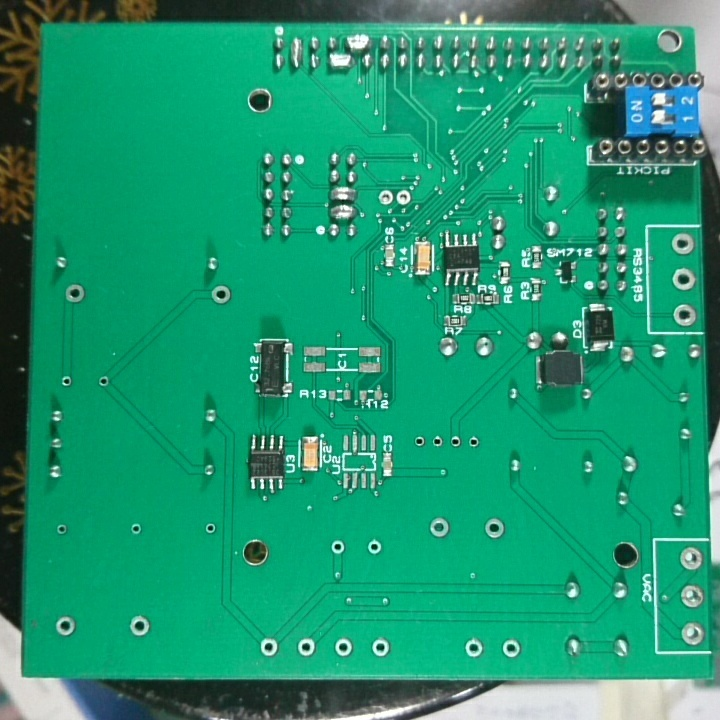F: (60, 278, 88, 309), (679, 619, 707, 647), (668, 231, 697, 258), (679, 582, 705, 612), (670, 266, 697, 292), (670, 303, 697, 329), (127, 614, 153, 640), (677, 546, 702, 573), (428, 515, 453, 541), (209, 282, 234, 308), (54, 613, 78, 640), (482, 514, 506, 541), (294, 635, 319, 660), (499, 638, 523, 662), (369, 636, 392, 661), (256, 635, 281, 658), (332, 635, 354, 660), (328, 538, 349, 560), (393, 186, 413, 209), (463, 636, 482, 659), (365, 537, 384, 559), (377, 187, 394, 210), (57, 371, 76, 391), (94, 370, 111, 392), (465, 432, 482, 452), (128, 520, 145, 538), (202, 520, 219, 536), (447, 432, 463, 449), (54, 521, 69, 538), (431, 432, 445, 449), (413, 432, 427, 449)
P: (325, 49, 355, 72), (342, 31, 371, 52), (326, 203, 359, 221), (287, 35, 304, 69), (327, 184, 356, 202)
